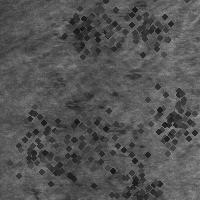rolled-in_scale: (0, 87, 97, 199), (39, 93, 143, 197), (46, 50, 145, 138), (44, 0, 136, 74), (99, 0, 187, 69), (135, 81, 200, 157), (101, 153, 173, 200)
